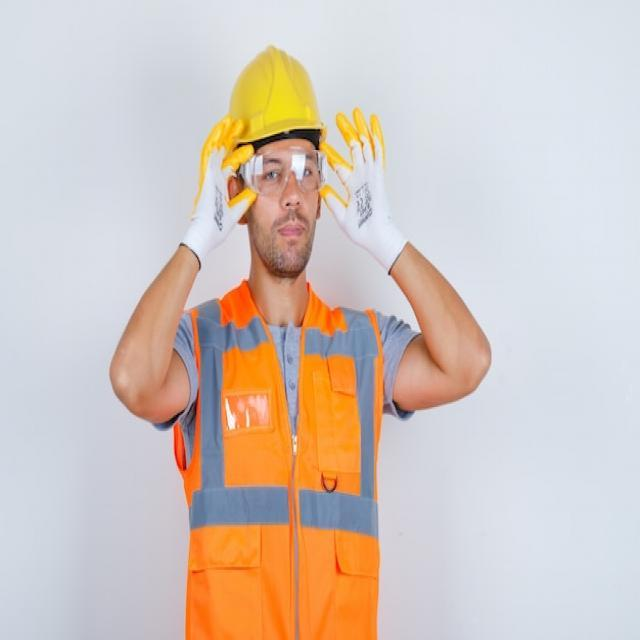Gloves: (314, 110, 407, 266), (184, 108, 259, 267)
Helmet: (210, 33, 343, 152)
Vest: (184, 289, 386, 640)
